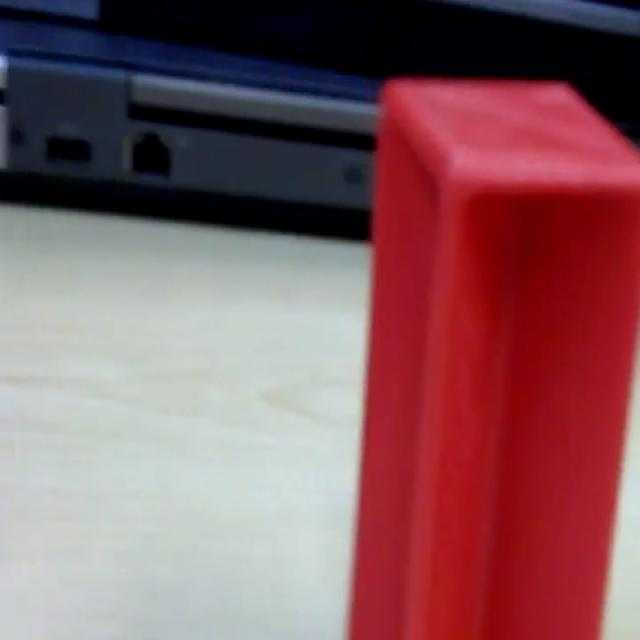red_block: (346, 75, 638, 636)
